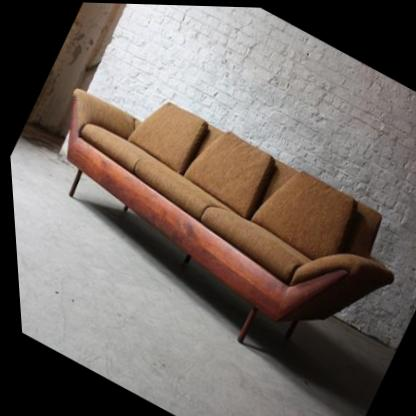Sofa: (3, 48, 416, 400)
